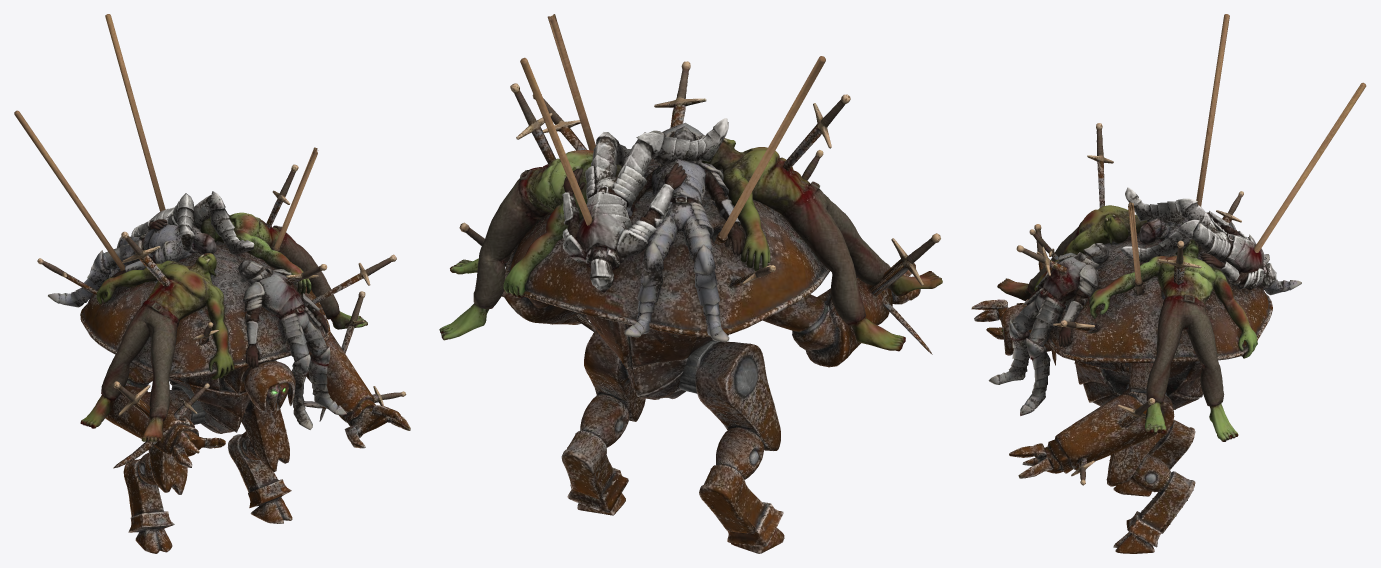
The model's file is MZ4250 - Cadaver Collector.glb.
3 views of the same model, side by side, from view 1: azimuth 30°, elevation 25°; view 2: azimuth 150°, elevation 25°; view 3: azimuth 270°, elevation 25° (orthographic). The views are drawn at different scales.
Parts seen in each view (by area): view 1: Body.001; view 2: Body.001; view 3: Body.001.
Part boxes in pixels (<box>): Body.001: <box>14,14,410,553</box>; Body.001: <box>439,14,942,553</box>; Body.001: <box>971,14,1366,553</box>.
Size of the model in its own units: 1.79 by 2.31 by 1.89.
1 material, 1 textured.
